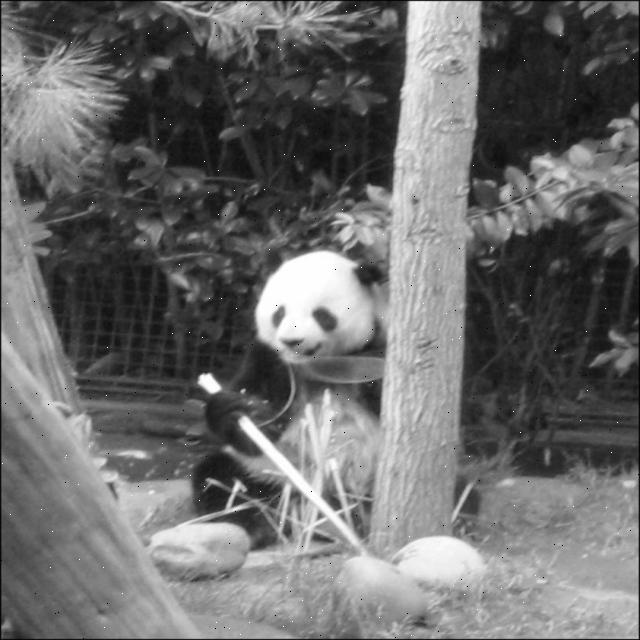panda: (194, 247, 483, 545)
